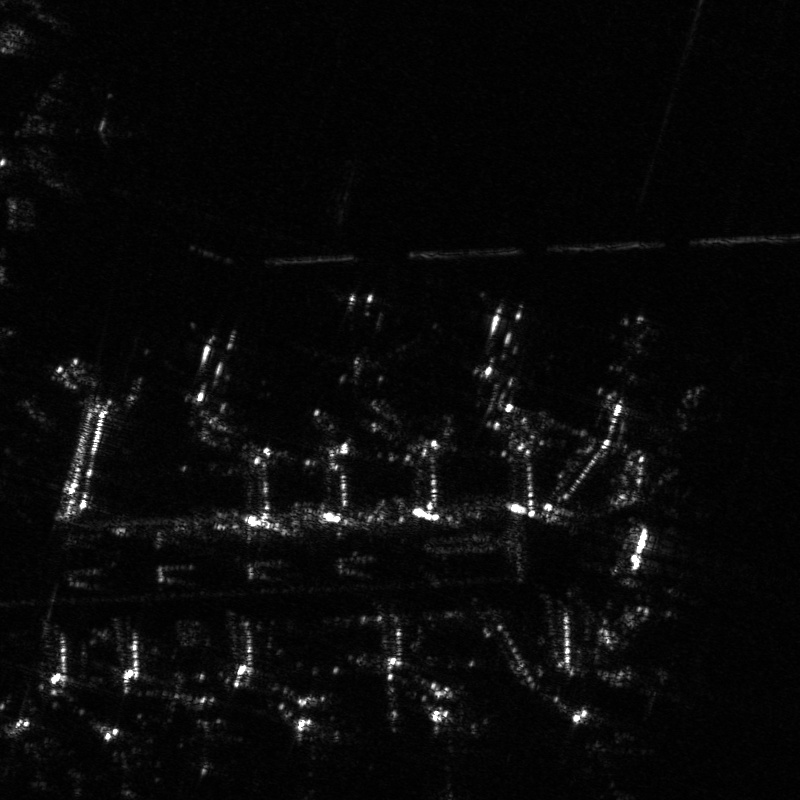A220: (172, 694, 245, 786)
A320/321: (434, 293, 560, 412)
Boeing737: (552, 702, 666, 799)
Boeing787: (270, 697, 357, 799)
other: (292, 293, 419, 410), (393, 704, 506, 799)
